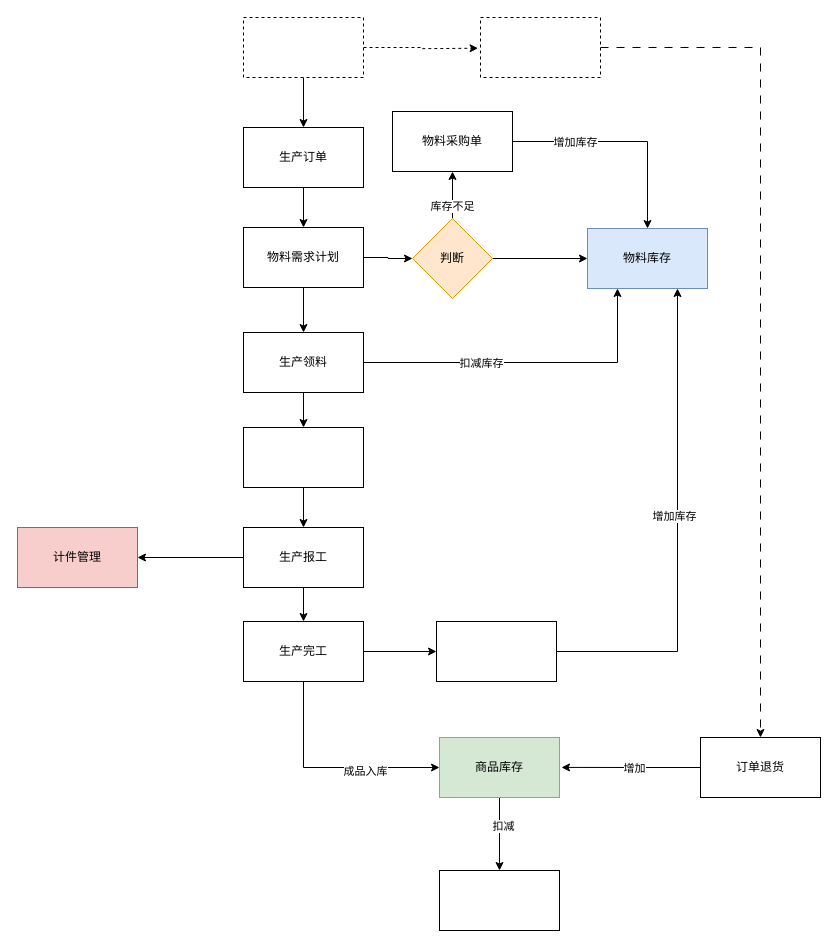
Some shapes in this 838 by 948 pixel diagram are drawn without their labels. Each missing label, with the box of its shape:
JIT母单: (242, 16, 364, 78)
生产工艺/工序: (242, 426, 364, 488)
生产退料: (436, 620, 556, 682)
订单发货: (480, 16, 600, 78)
订单发货（出库）: (438, 870, 560, 930)
